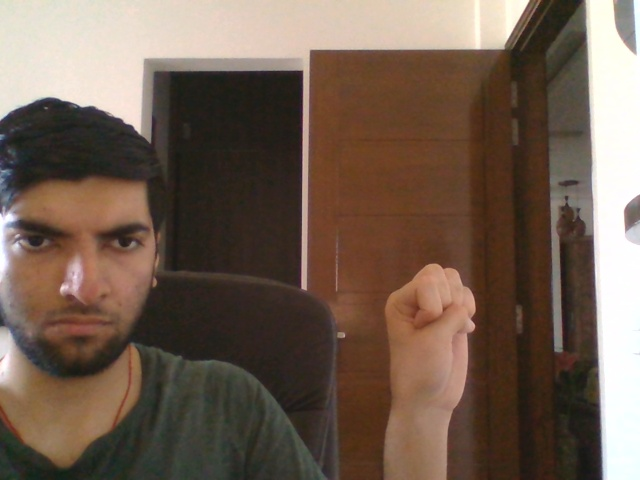LetterS: (382, 259, 477, 417)
